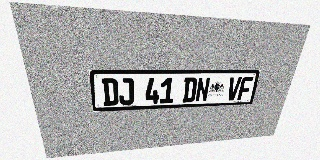1: (159, 78, 175, 103)
4: (145, 78, 160, 104)
D: (101, 78, 119, 106), (182, 77, 198, 102)
F: (237, 77, 253, 100)
J: (118, 78, 134, 105)
N: (195, 77, 211, 102)
V: (226, 77, 242, 101)
